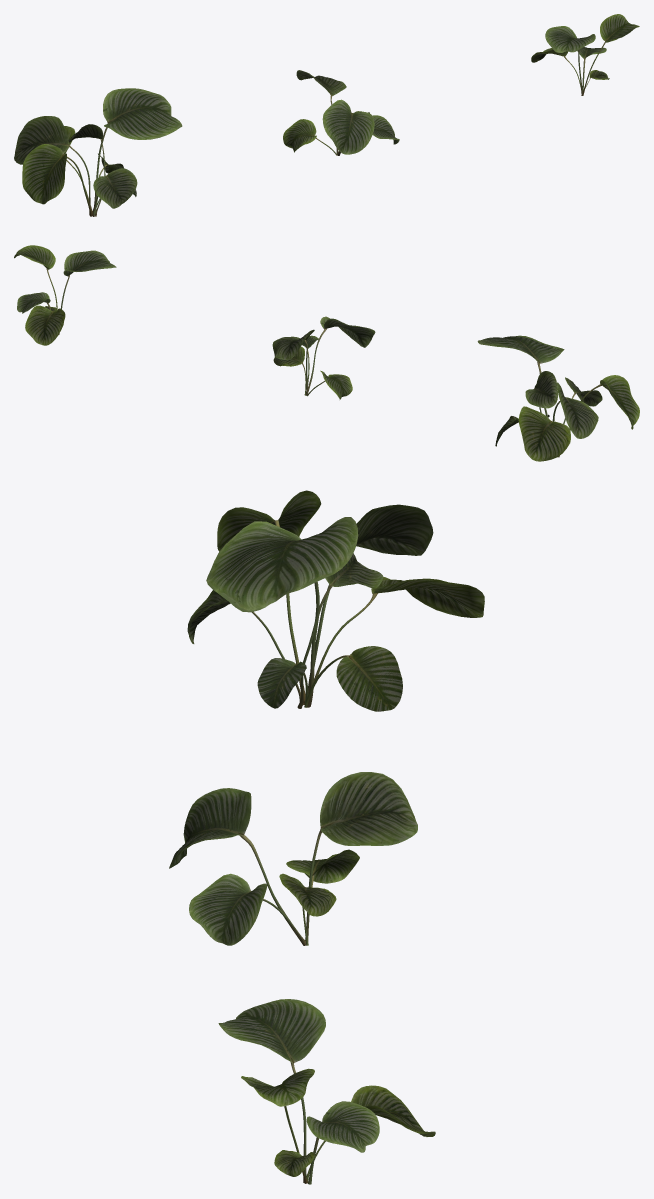
File: calathea.glb
3 views of the same model, one above another, from view 1: azimuth 30°, elevation 25°; view 2: azimuth 150°, elevation 25°; view 3: azimuth 270°, elevation 25° (orthographic). The views are drawn at different scales.
Parts seen in each view (by area): view 1: calathea_orbifolia_01_a, calathea_orbifolia_01_b, calathea_orbifolia_01_c; view 2: calathea_orbifolia_01_a, calathea_orbifolia_01_c, calathea_orbifolia_01_b; view 3: calathea_orbifolia_01_a, calathea_orbifolia_01_b, calathea_orbifolia_01_c.
Part boxes in pixels (x1,y1,x2,y2): calathea_orbifolia_01_a: (14,88,182,216); calathea_orbifolia_01_b: (283,70,399,155); calathea_orbifolia_01_c: (531,14,639,95); calathea_orbifolia_01_a: (477,335,639,461); calathea_orbifolia_01_c: (14,245,116,345); calathea_orbifolia_01_b: (272,316,375,399); calathea_orbifolia_01_a: (187,490,484,711); calathea_orbifolia_01_b: (169,772,417,945); calathea_orbifolia_01_c: (218,999,435,1184).
Bounding box in the file's own units: 2.49 × 0.4243 × 0.5583.
Materials: 1 (1 with a texture image).
